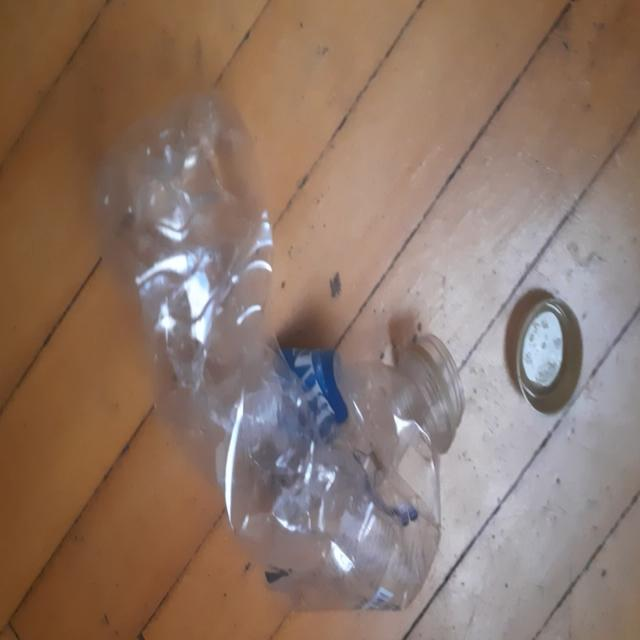Plastic: (94, 88, 464, 612)
